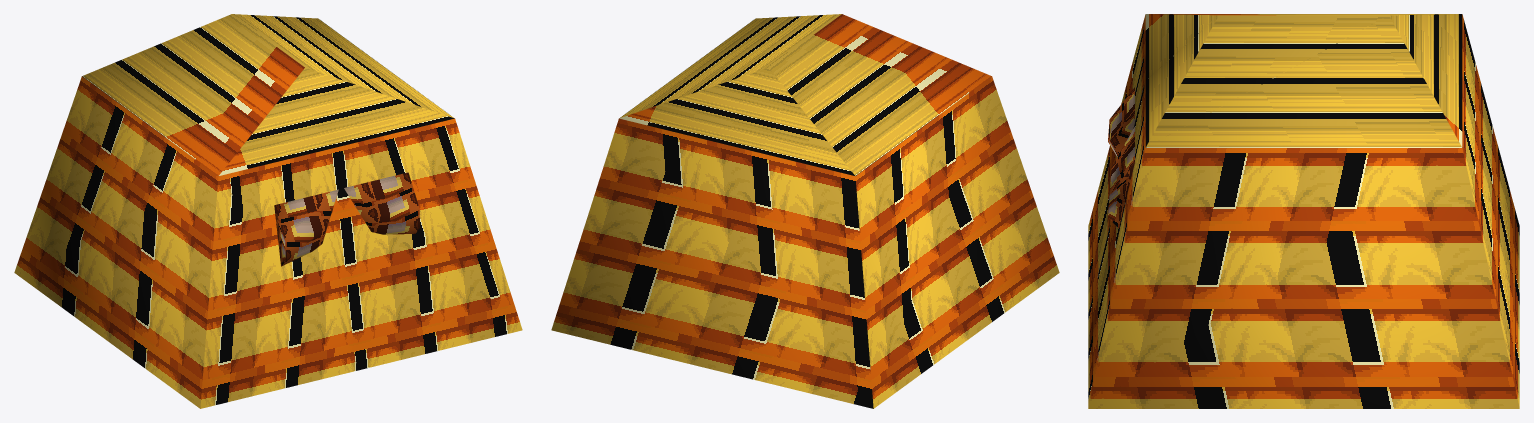
Rendered from 3425IMIG20_24.gltf.
The picture shows the model from 3 angles, left to right: view 1: azimuth 30°, elevation 25°; view 2: azimuth 150°, elevation 25°; view 3: azimuth 270°, elevation 25°; orthographic projection. The views are drawn at different scales.
Visible parts, largest first — view 1: 3425IMIG20_24; view 2: 3425IMIG20_24; view 3: 3425IMIG20_24.
Part boxes in pixels (bbox=[...]): 3425IMIG20_24: bbox=[14, 14, 522, 408]; 3425IMIG20_24: bbox=[551, 14, 1059, 408]; 3425IMIG20_24: bbox=[1088, 14, 1519, 408].
Size of the model in its own units: 1.87 by 1.45 by 1.87.
Materials: 3 (3 with a texture image).
